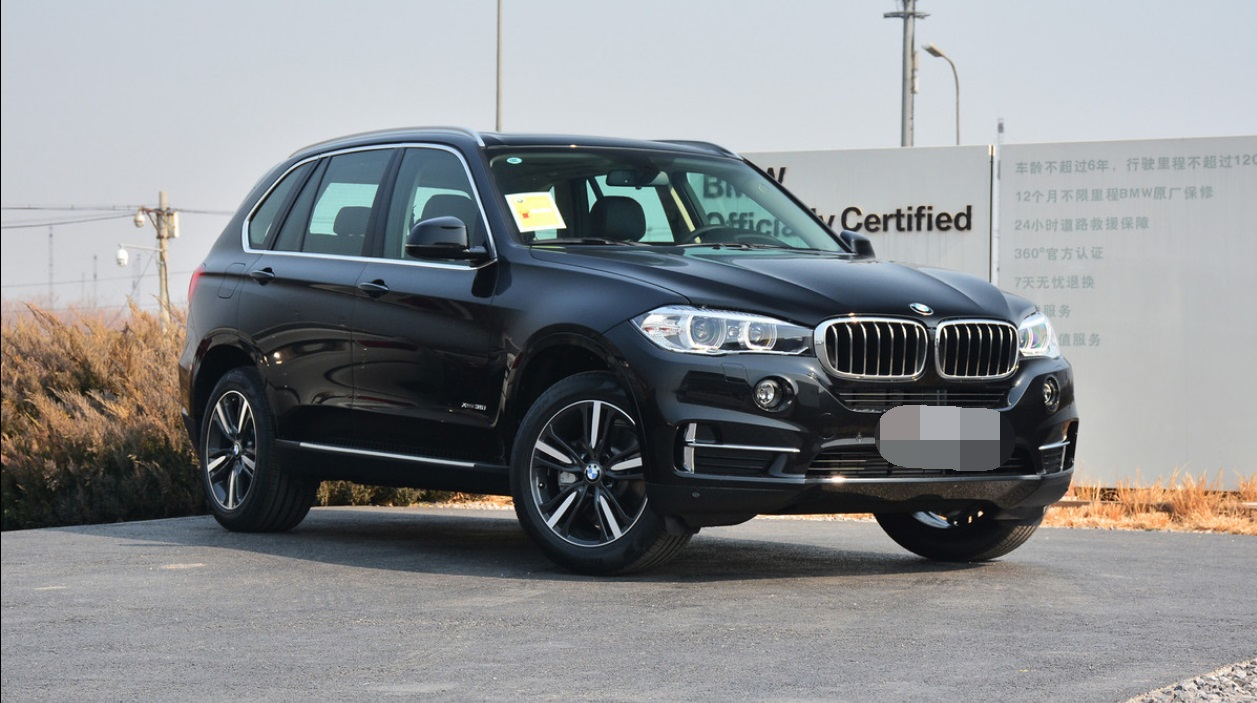SUV: (178, 122, 1085, 578)
